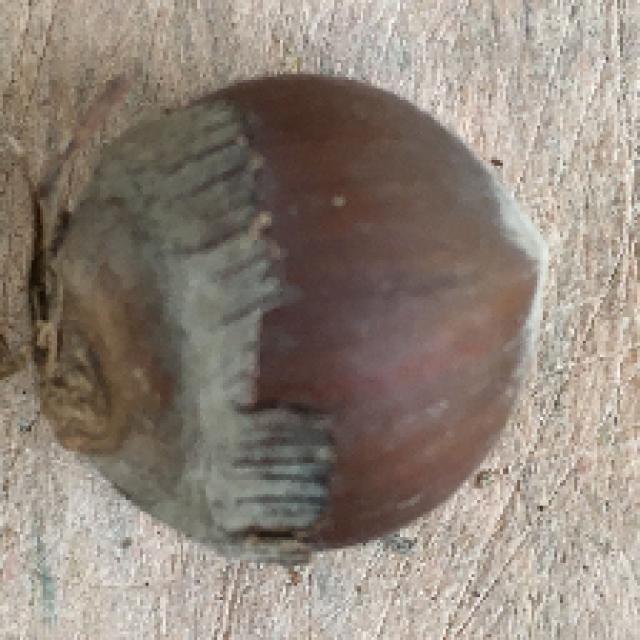damagedHazelnut: (34, 69, 544, 550)
